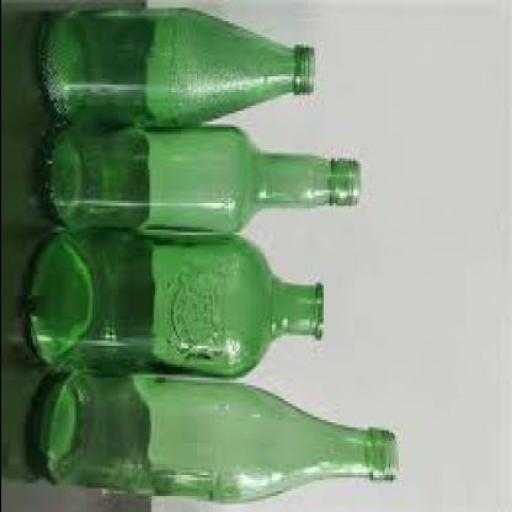glass: (35, 372, 399, 502), (27, 230, 323, 374), (45, 124, 360, 232), (42, 6, 314, 118)
